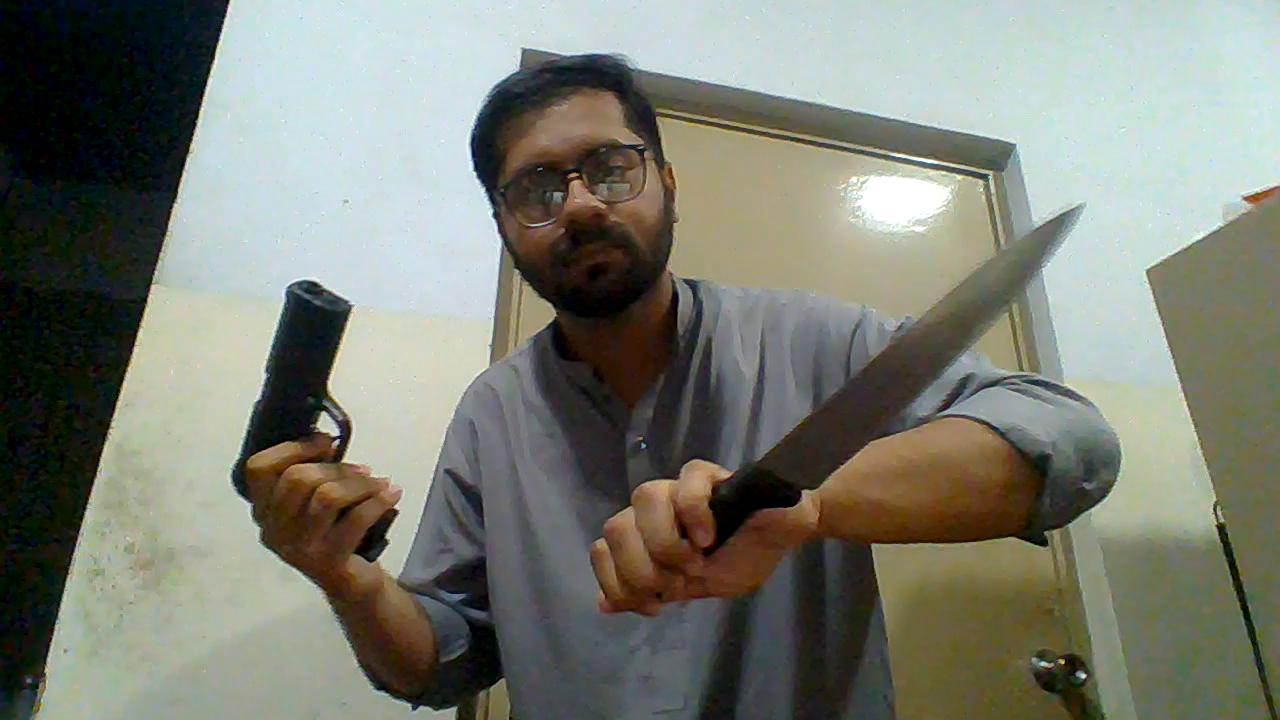criminal: (231, 50, 1119, 720)
weapon: (693, 196, 1090, 558), (230, 277, 404, 565)
